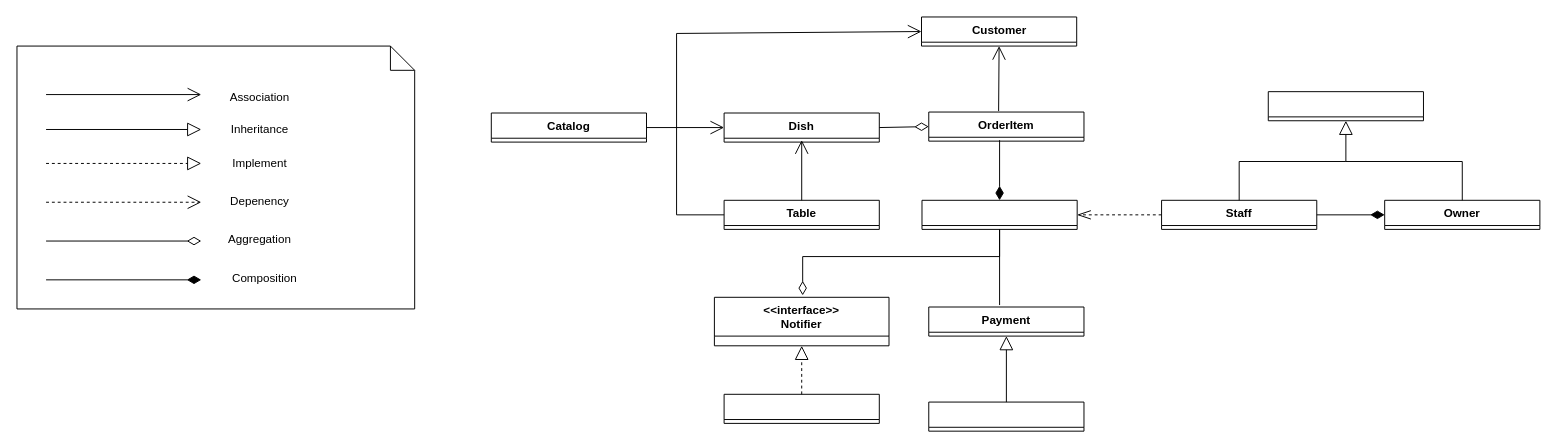
The diagram is 1557 pixels wide and 448 high, and some of its shapes have lost their labels. The box of each missing label's shape, as (x1, y1, x2, y2) in pixels:
CashPayment: (928, 401, 1084, 431)
Order: (921, 199, 1077, 229)
User: (1267, 91, 1423, 121)
Websocket Notifier: (723, 393, 879, 423)
